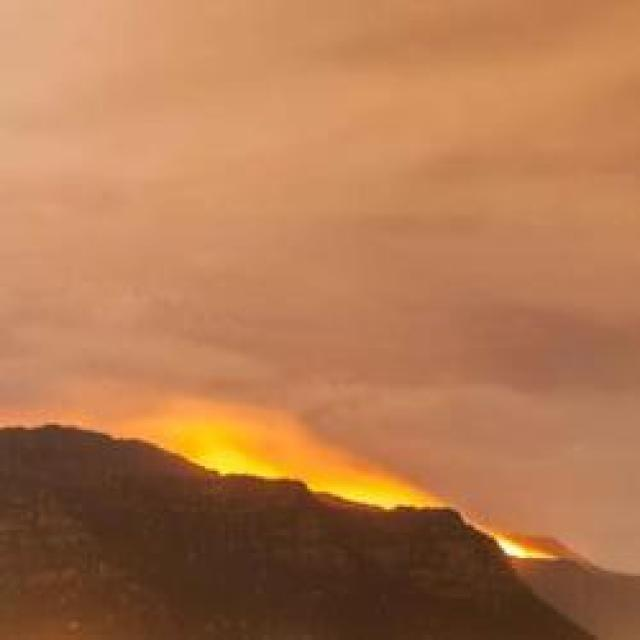Fire: (198, 446, 290, 479), (344, 485, 434, 509), (501, 532, 554, 562)
